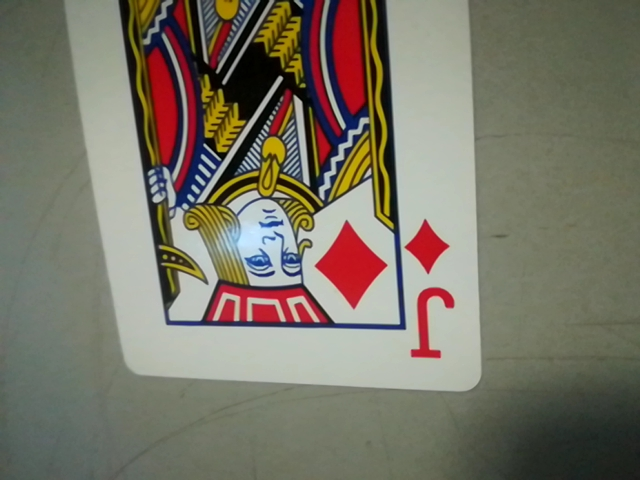fk j: (395, 212, 465, 370)
